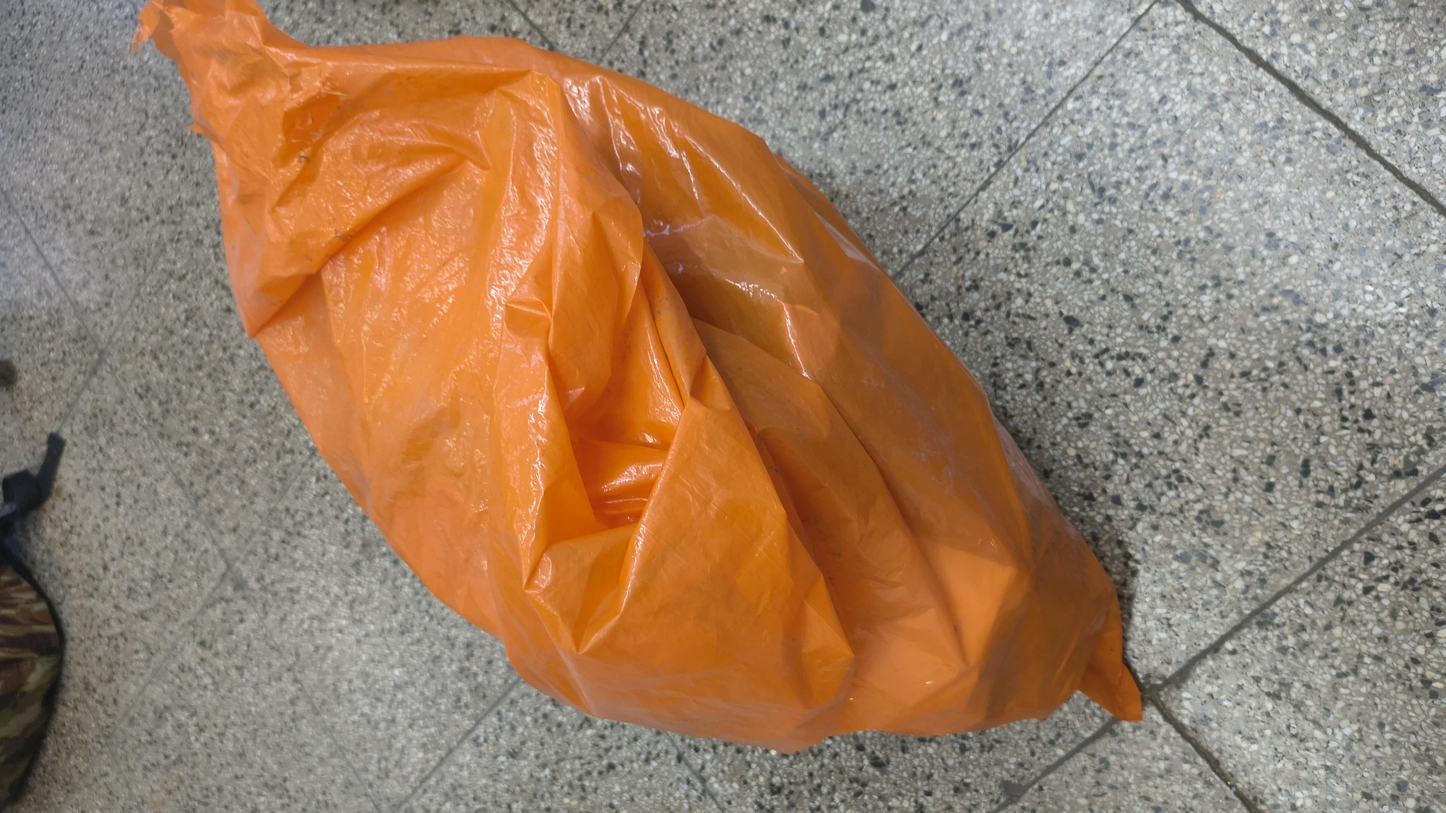Garbage: (0, 60, 1446, 673)
